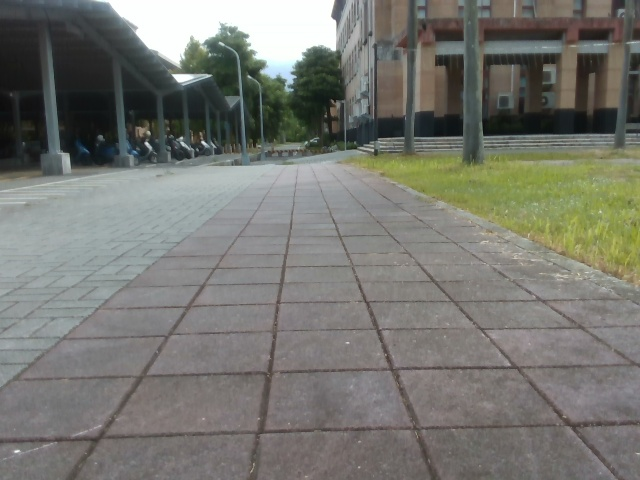grass: (343, 144, 639, 299), (166, 22, 343, 155)
road: (0, 151, 639, 479)
